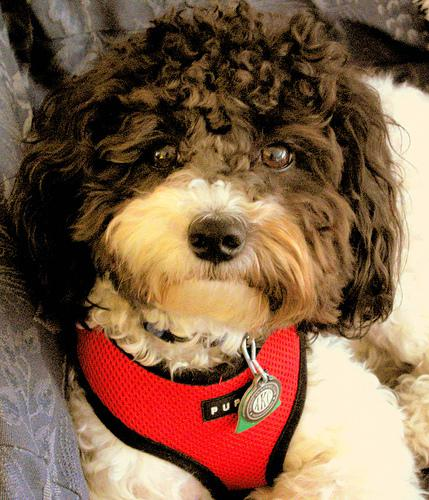dog: (9, 11, 392, 316)
